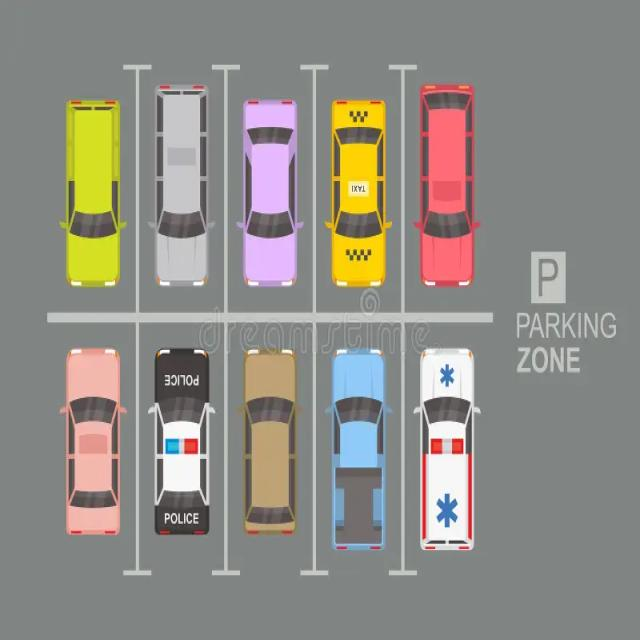ocupado: (62, 336, 495, 568), (53, 81, 487, 310)
